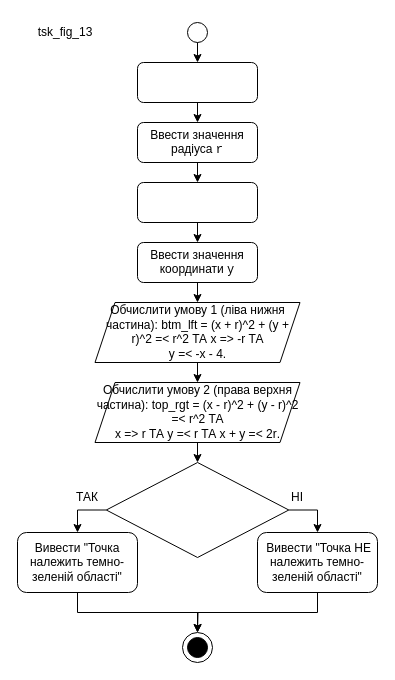
This 395x680 diagram has some shape labels left out. The shapes that lost their labels are listed below. From the top down, each one's centre as x and y in pixels, then its label:
point 197,82: Вивести "Завдання 2 - Fig_13"
point 197,202: Ввести значення координати x
point 197,510: btm_lft дорівнює TRUE АБО top_rgt дорівнює TRUE?
